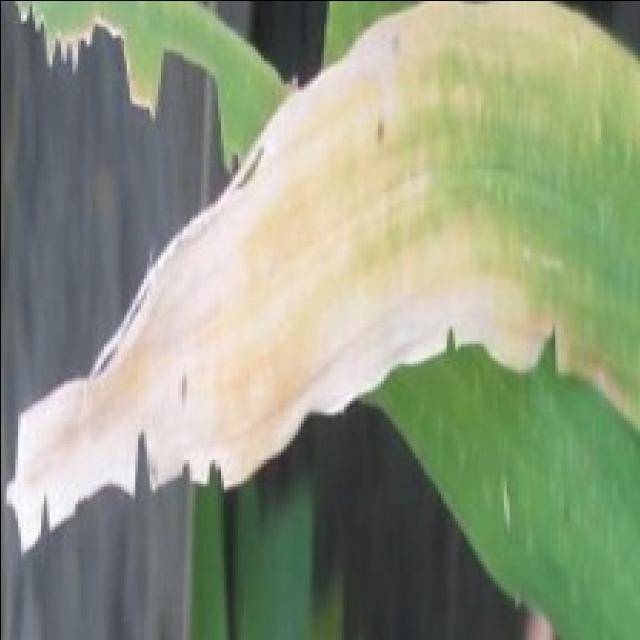Unhealthy: (5, 0, 632, 558), (13, 0, 157, 127)
